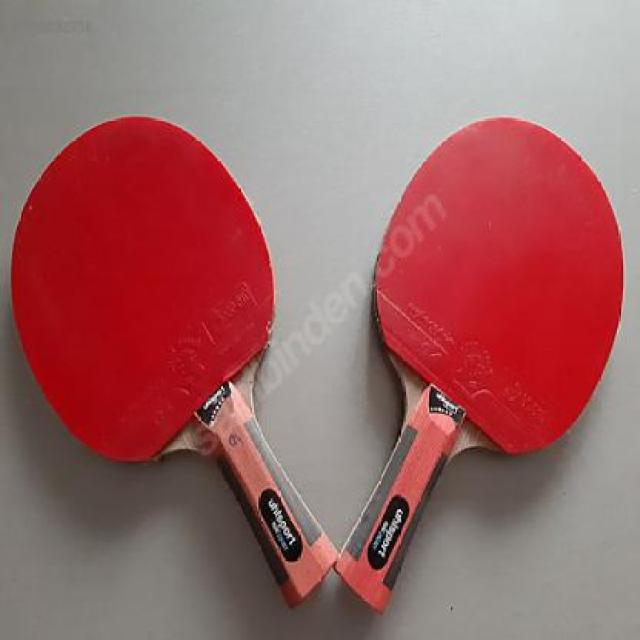table_tennis_racket: (4, 118, 279, 467), (370, 109, 624, 460)
